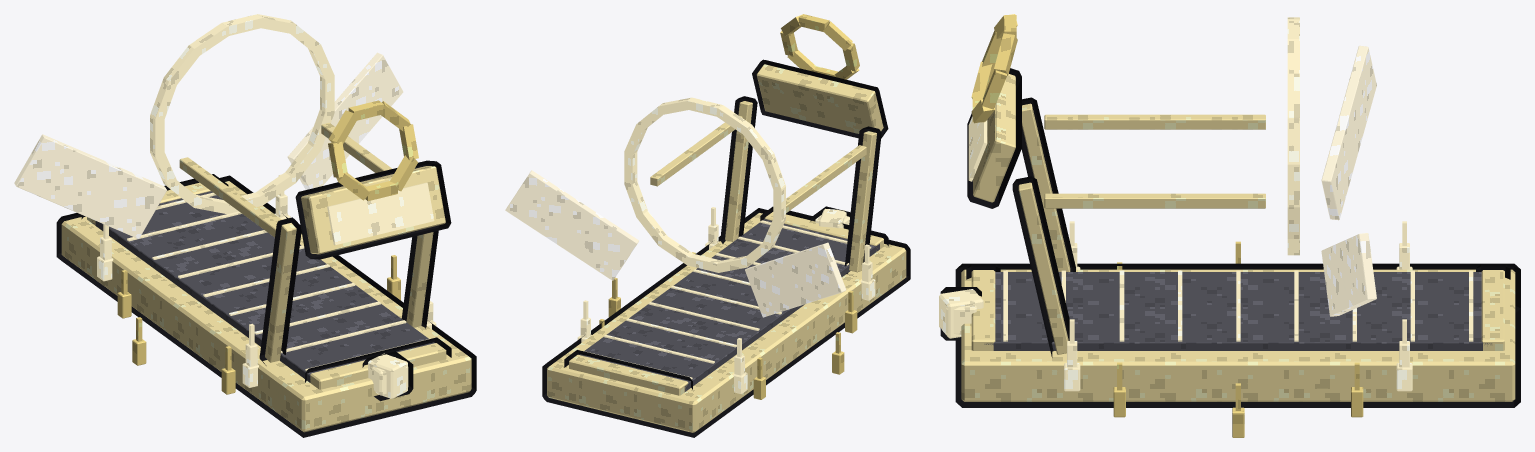
Rendered from treadmill_19.glb.
The picture shows the model from 3 angles, left to right: view 1: azimuth 30°, elevation 25°; view 2: azimuth 150°, elevation 25°; view 3: azimuth 270°, elevation 25°; orthographic projection. The views are drawn at different scales.
Visible parts, largest first — view 1: model; view 2: model; view 3: model.
Part boxes in pixels (x1,y1,x2,y2): model: (14,14,476,437); model: (505,14,910,437); model: (939,14,1520,437).
Size of the model in its own units: 2.73 by 2.02 by 3.12.
6 materials, 5 textured.
